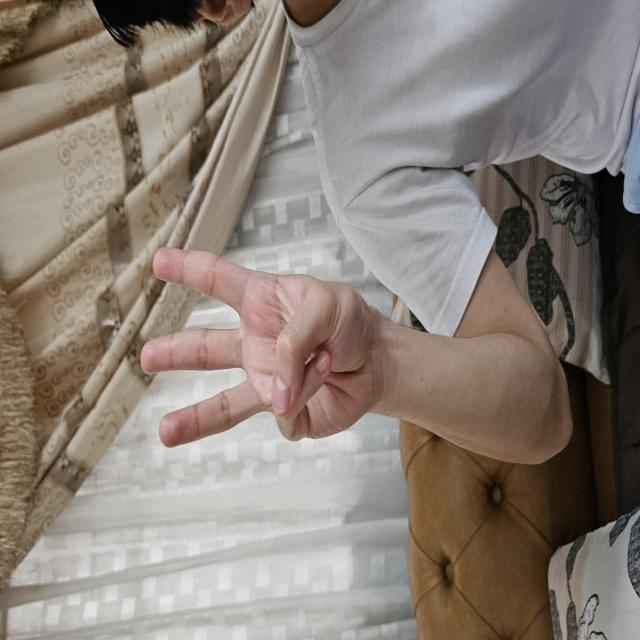W: (189, 139, 396, 382)
